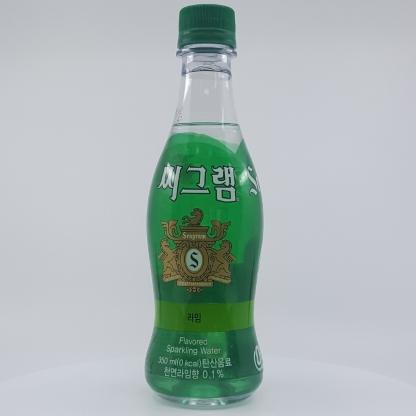-------350ML: (144, 4, 264, 406)
